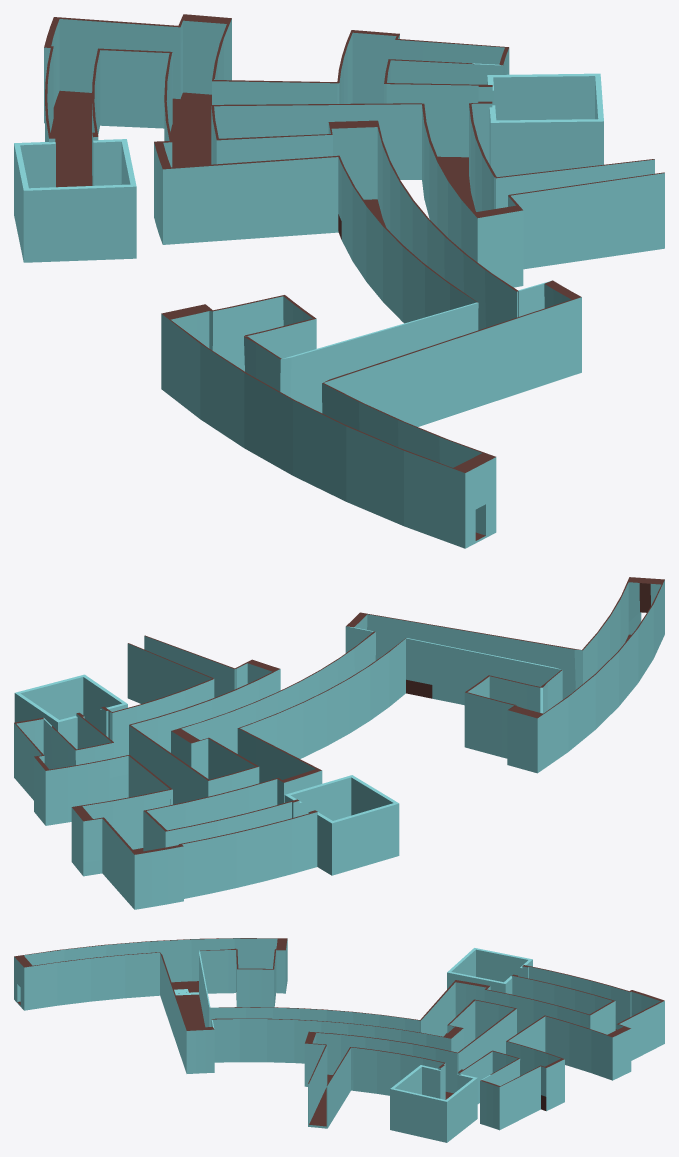
The model's file is labyrinth_mit_zeugWalls.fbx.
3 views of the same model, one above another, from view 1: azimuth 30°, elevation 25°; view 2: azimuth 150°, elevation 25°; view 3: azimuth 270°, elevation 25° (orthographic). The views are drawn at different scales.
Visible parts, largest first — view 1: Cube.012; view 2: Cube.012; view 3: Cube.012.
Part boxes in pixels (x1,y1,x2,y2): Cube.012: (14,14,664,548); Cube.012: (14,577,664,909); Cube.012: (14,938,664,1142).
Bounding box in the file's own units: 8120 × 1017 × 13810.
